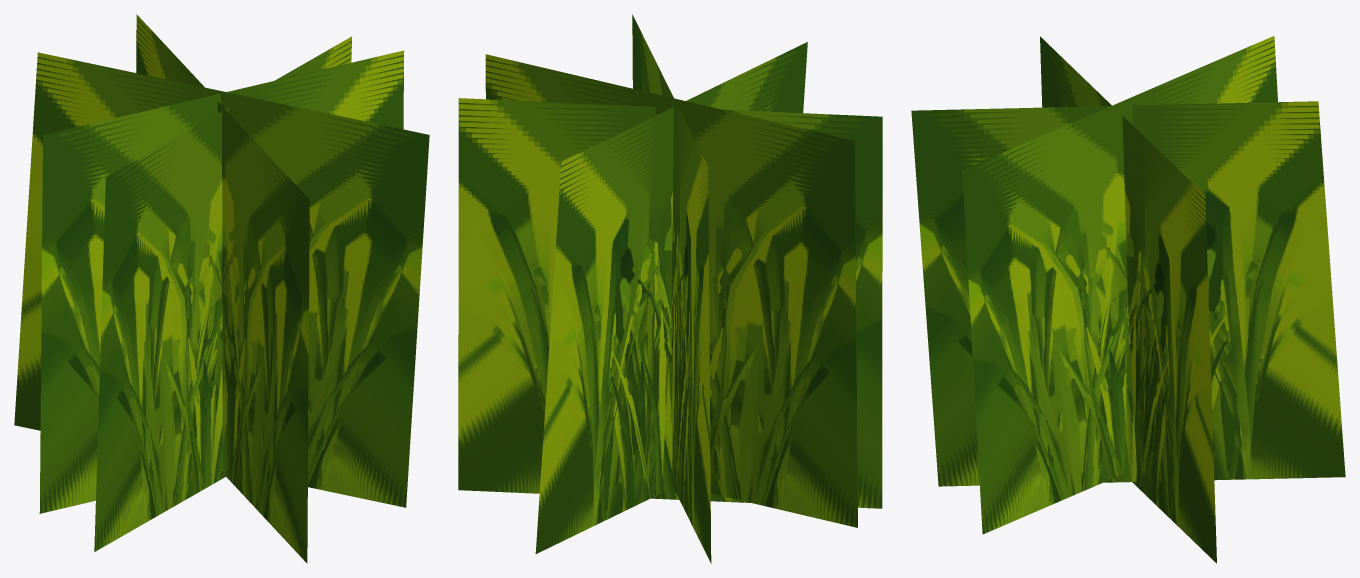
Rendered from Grass.fbx.
3 views of the same model, side by side, from view 1: azimuth 30°, elevation 25°; view 2: azimuth 150°, elevation 25°; view 3: azimuth 270°, elevation 25° (orthographic). The views are drawn at different scales.
Parts seen in each view (by area): view 1: Plane; view 2: Plane; view 3: Plane.
Boxes of the visible parts, <box> form: Plane: <box>14,14,429,563</box>; Plane: <box>458,14,882,563</box>; Plane: <box>911,36,1345,563</box>.
Bounding box in the file's own units: 202 × 217 × 212.
Materials: 1 (1 with a texture image).
